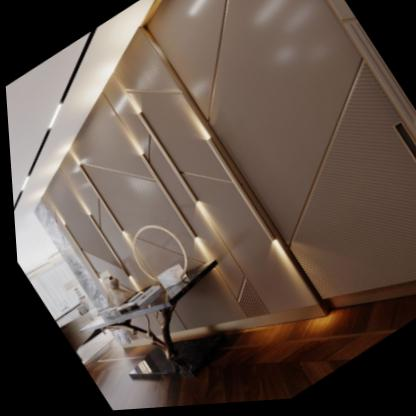Wall Panel: (45, 0, 416, 331)
Wooden floor: (82, 307, 407, 412)
